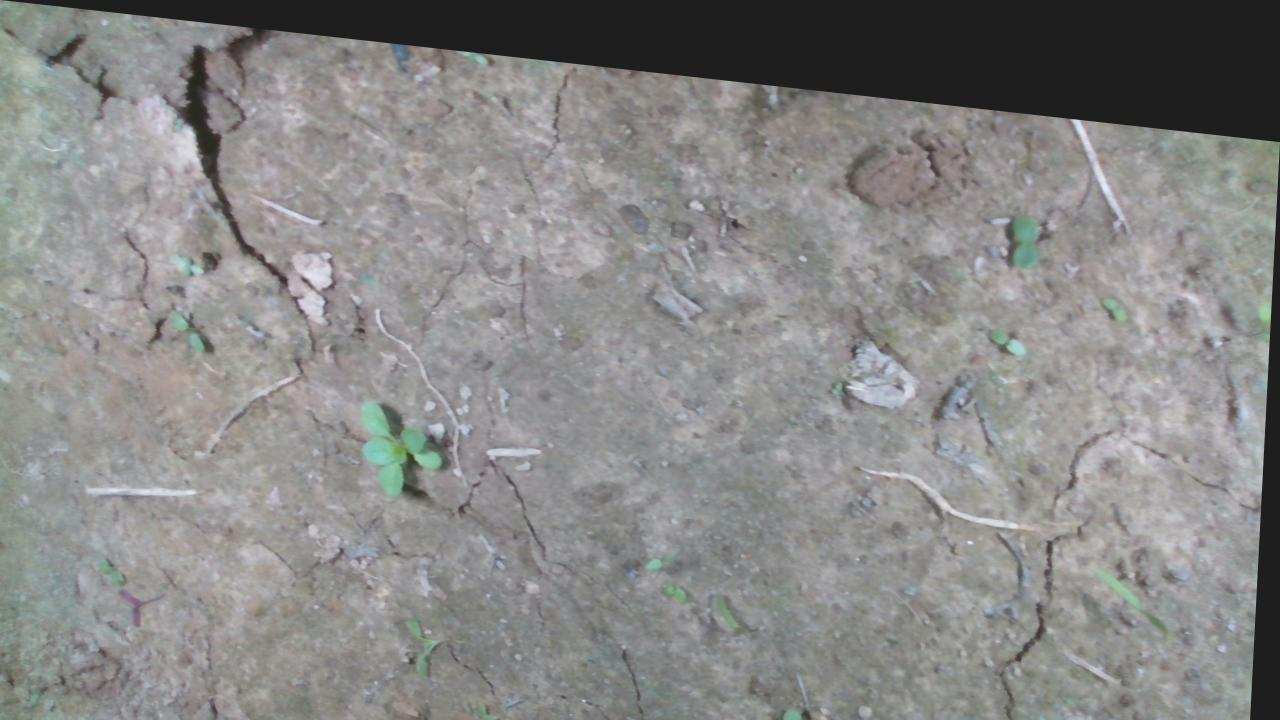weed: (1009, 185, 1040, 246), (170, 305, 210, 348), (988, 300, 1031, 333), (778, 685, 809, 719), (647, 526, 681, 556), (1100, 269, 1129, 297), (182, 250, 208, 275), (663, 565, 692, 586)
